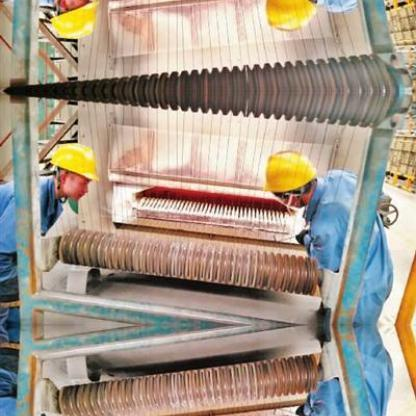Helmet: (253, 144, 315, 207), (45, 139, 104, 203), (44, 0, 104, 44), (253, 0, 316, 39)
